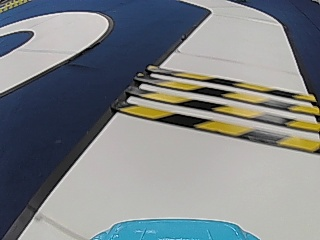bump: (113, 63, 319, 156)
